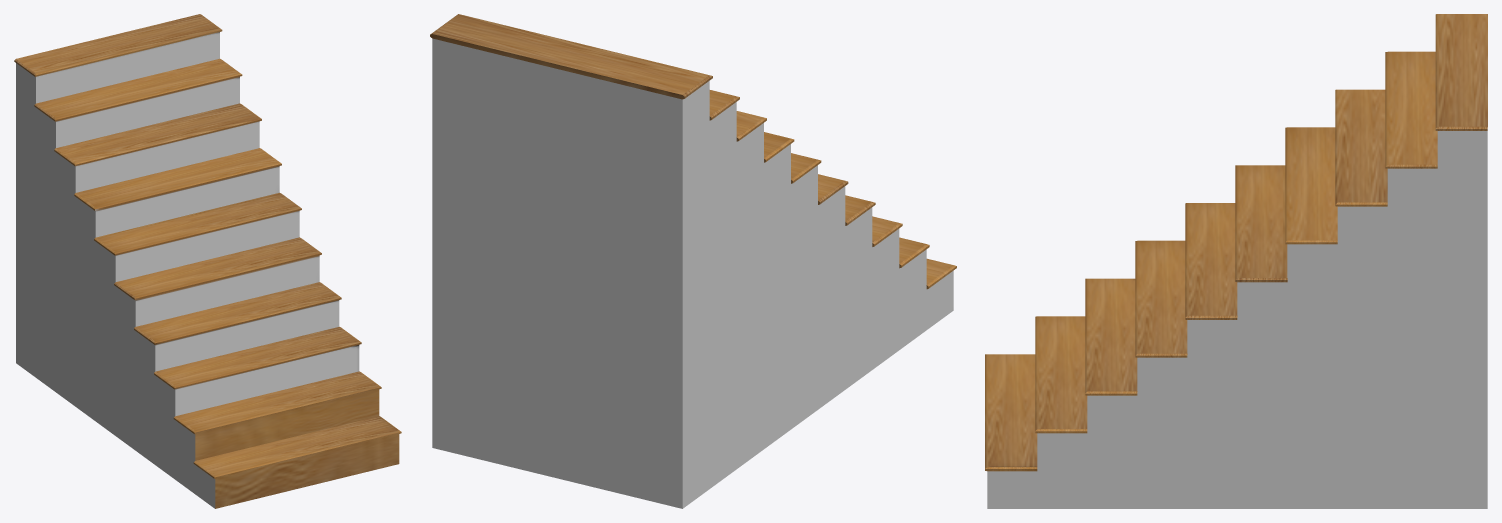
The model's file is StaircaseFBX.fbx.
3 views of the same model, side by side, from view 1: azimuth 30°, elevation 25°; view 2: azimuth 150°, elevation 25°; view 3: azimuth 270°, elevation 25° (orthographic). The views are drawn at different scales.
Parts seen in each view (by area): view 1: pCube1; view 2: pCube1; view 3: pCube1.
Boxes of the visible parts, x1,y1,x2,y2 form: pCube1: [14, 14, 401, 508]; pCube1: [430, 14, 956, 508]; pCube1: [985, 14, 1487, 508].
Size of the model in its own units: 8.13 by 12.64 by 15.07.
